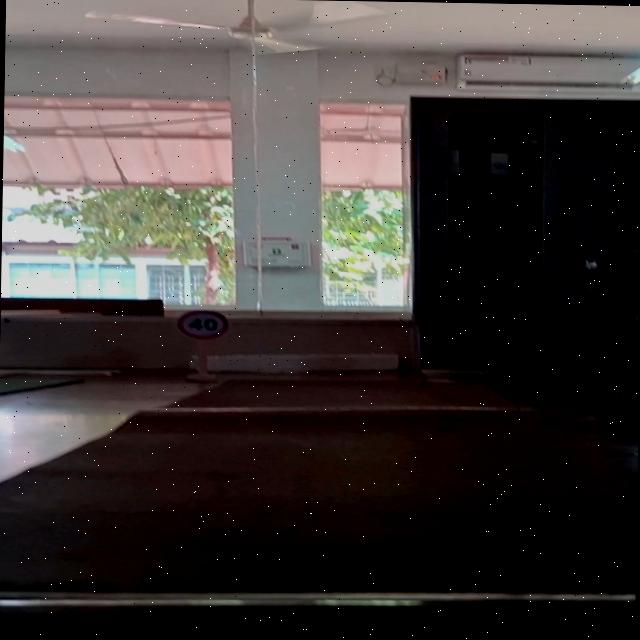Speed40: (174, 307, 230, 340)
